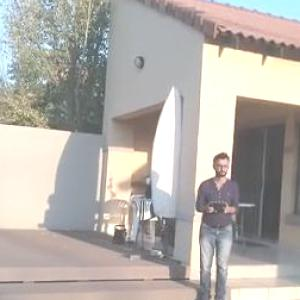follow: (188, 148, 245, 298)
